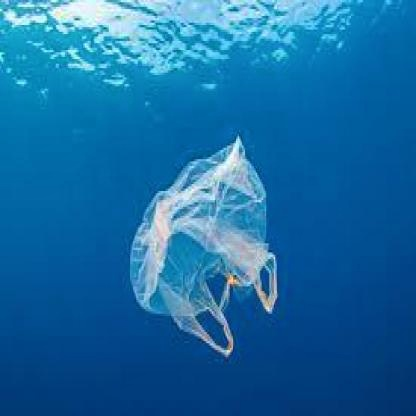pbag: (128, 134, 278, 359)
